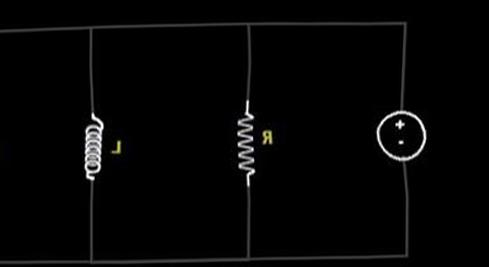Battery: (355, 98, 438, 174)
